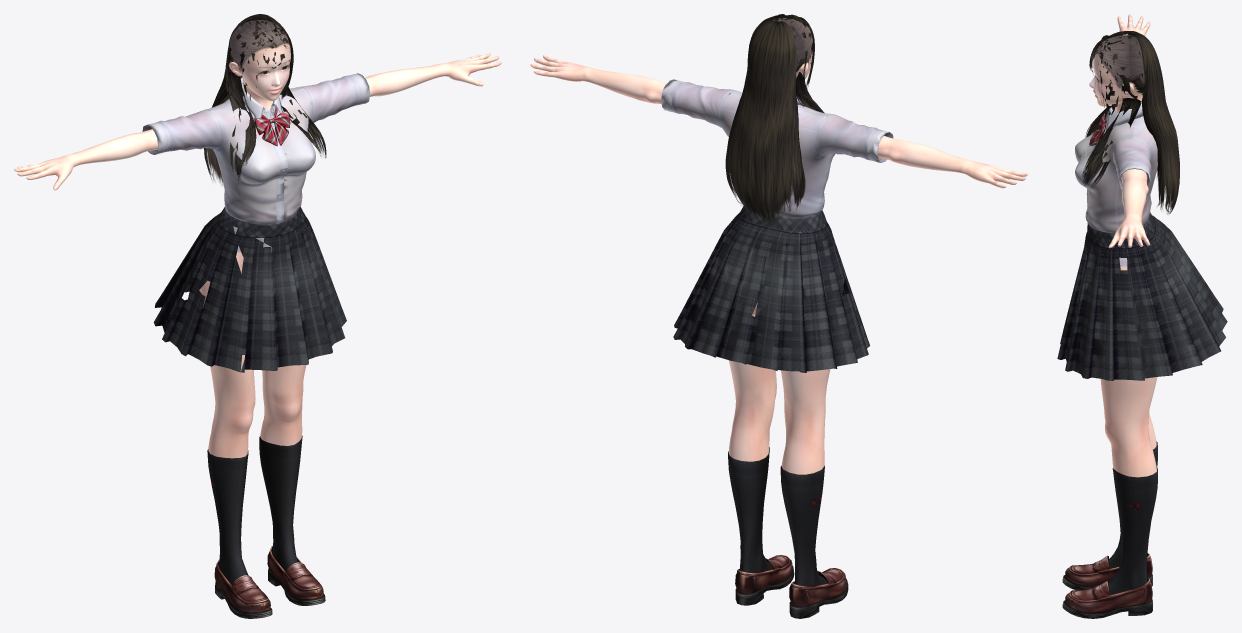
The model's file is woman1.gltf.
3 views of the same model, side by side, from view 1: azimuth 30°, elevation 25°; view 2: azimuth 150°, elevation 25°; view 3: azimuth 270°, elevation 25° (orthographic). The views are drawn at different scales.
Visible parts, largest first — view 1: D0208059.001, D0208059, D0208059.002, D0208059.006, D0208059.003; view 2: D0208059, D0208059.001, D0208059.006, D0208059.002; view 3: D0208059.001, D0208059, D0208059.006, D0208059.002, D0208059.003.
Boxes of the visible parts, x1,y1,x2,y2 form: D0208059.001: [153, 207, 346, 372]; D0208059: [14, 14, 501, 458]; D0208059.002: [142, 73, 370, 252]; D0208059.006: [207, 435, 325, 618]; D0208059.003: [254, 105, 290, 146]; D0208059: [530, 14, 1028, 474]; D0208059.001: [673, 206, 869, 372]; D0208059.006: [728, 447, 848, 618]; D0208059.002: [661, 79, 893, 217]; D0208059.001: [1057, 212, 1227, 380]; D0208059: [1082, 14, 1179, 477]; D0208059.006: [1062, 441, 1157, 618]; D0208059.002: [1075, 103, 1157, 266]; D0208059.003: [1089, 113, 1142, 146].
Bounding box in the file's own units: 6.35 × 7.2 × 1.97.
Materials: 35 (35 with a texture image).
